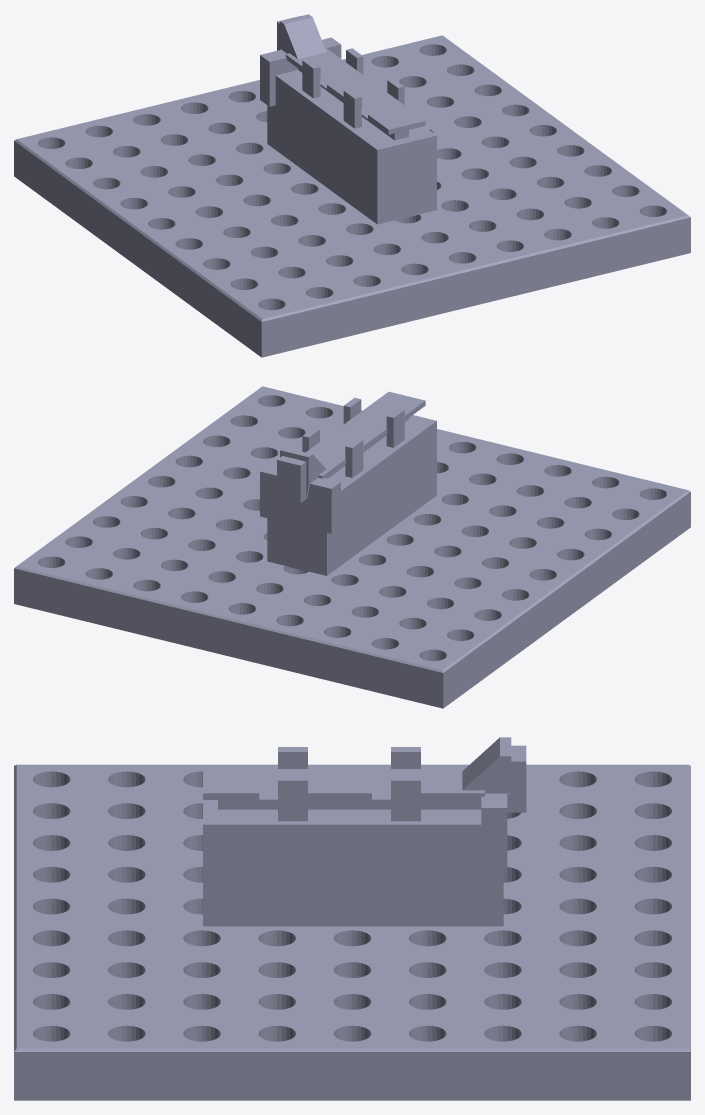
Rendered from Pallet.glb.
3 views of the same model, one above another, from view 1: azimuth 30°, elevation 25°; view 2: azimuth 150°, elevation 25°; view 3: azimuth 270°, elevation 25° (orthographic). The views are drawn at different scales.
Visible parts, largest first — view 1: PiastraForata, Pallet_002, Pallet_008, Pallet_009, Pallet_007, Pallet_004; view 2: PiastraForata, Pallet_002, Pallet_008, Pallet_009, Pallet_006, Pallet_004, Pallet_007; view 3: PiastraForata, Pallet_002, Pallet_008, Pallet_009, Pallet_003, Pallet_005, Pallet_006, Pallet_004, Pallet_007.
Part boxes in pixels (box(x1,y1,x2,y2)): PiastraForata: box(14, 35, 690, 357); Pallet_002: box(267, 70, 436, 224); Pallet_008: box(280, 14, 425, 134); Pallet_009: box(260, 37, 408, 140); Pallet_007: box(343, 89, 361, 128); Pallet_004: box(302, 59, 320, 98); PiastraForata: box(14, 386, 690, 708); Pallet_002: box(267, 415, 436, 575); Pallet_008: box(280, 391, 425, 497); Pallet_009: box(260, 418, 408, 533); Pallet_006: box(277, 456, 309, 502); Pallet_004: box(345, 438, 363, 477); Pallet_007: box(386, 408, 404, 447); PiastraForata: box(14, 764, 690, 1100); Pallet_002: box(203, 800, 503, 926); Pallet_008: box(203, 737, 511, 799); Pallet_009: box(218, 794, 507, 869); Pallet_003: box(278, 776, 307, 821); Pallet_005: box(391, 776, 420, 821); Pallet_006: box(507, 745, 526, 812); Pallet_004: box(391, 747, 420, 768); Pallet_007: box(278, 747, 307, 768).
Size of the model in its own units: 0.18 by 0.0619 by 0.18.
